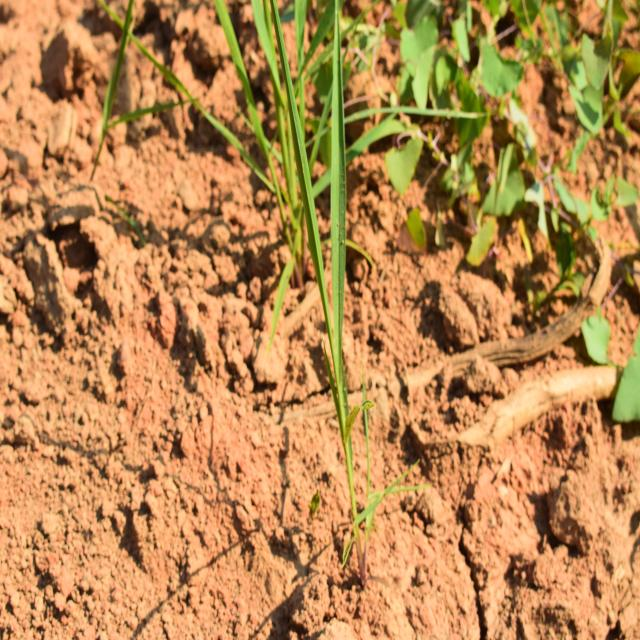green_foxtail: (270, 11, 408, 568)
